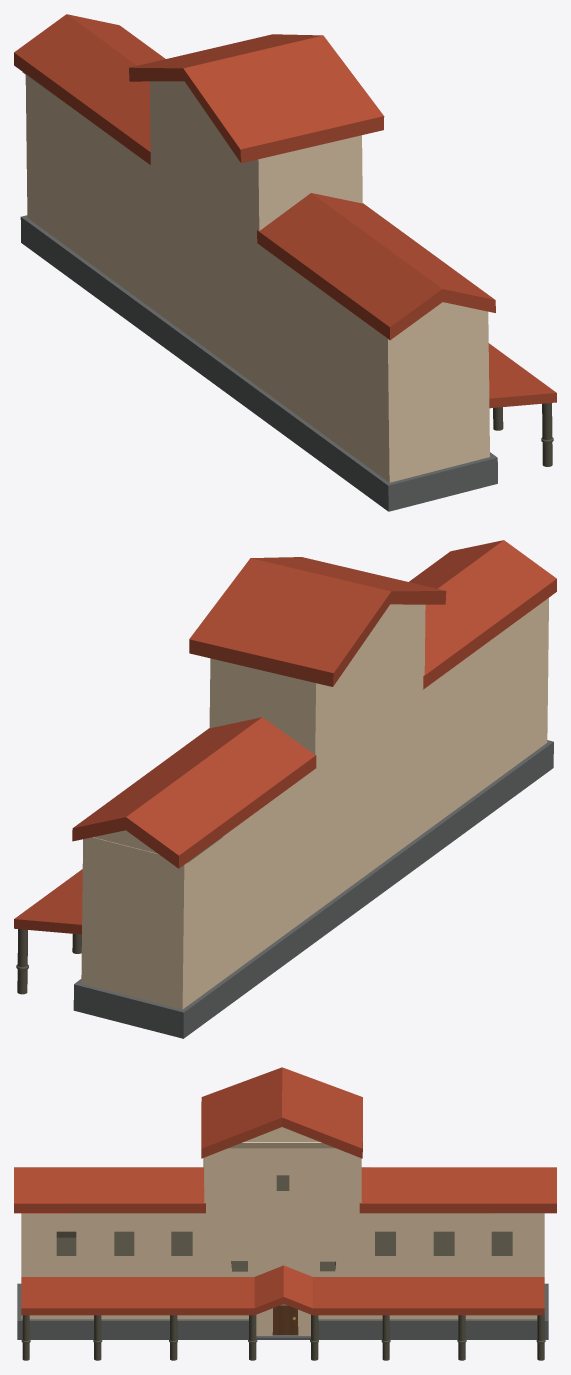
The model's file is romanbighouse.fbx.
The picture shows the model from 3 angles, top to bottom: view 1: azimuth 30°, elevation 25°; view 2: azimuth 150°, elevation 25°; view 3: azimuth 270°, elevation 25°; orthographic projection. The views are drawn at different scales.
Visible parts, largest first — view 1: Hous; view 2: Hous; view 3: Hous.
Part boxes in pixels (x1,y1,x2,y2): Hous: (14, 14, 556, 511); Hous: (14, 540, 556, 1038); Hous: (14, 1067, 556, 1360).
Size of the model in its own units: 10040 by 15638 by 33829.
